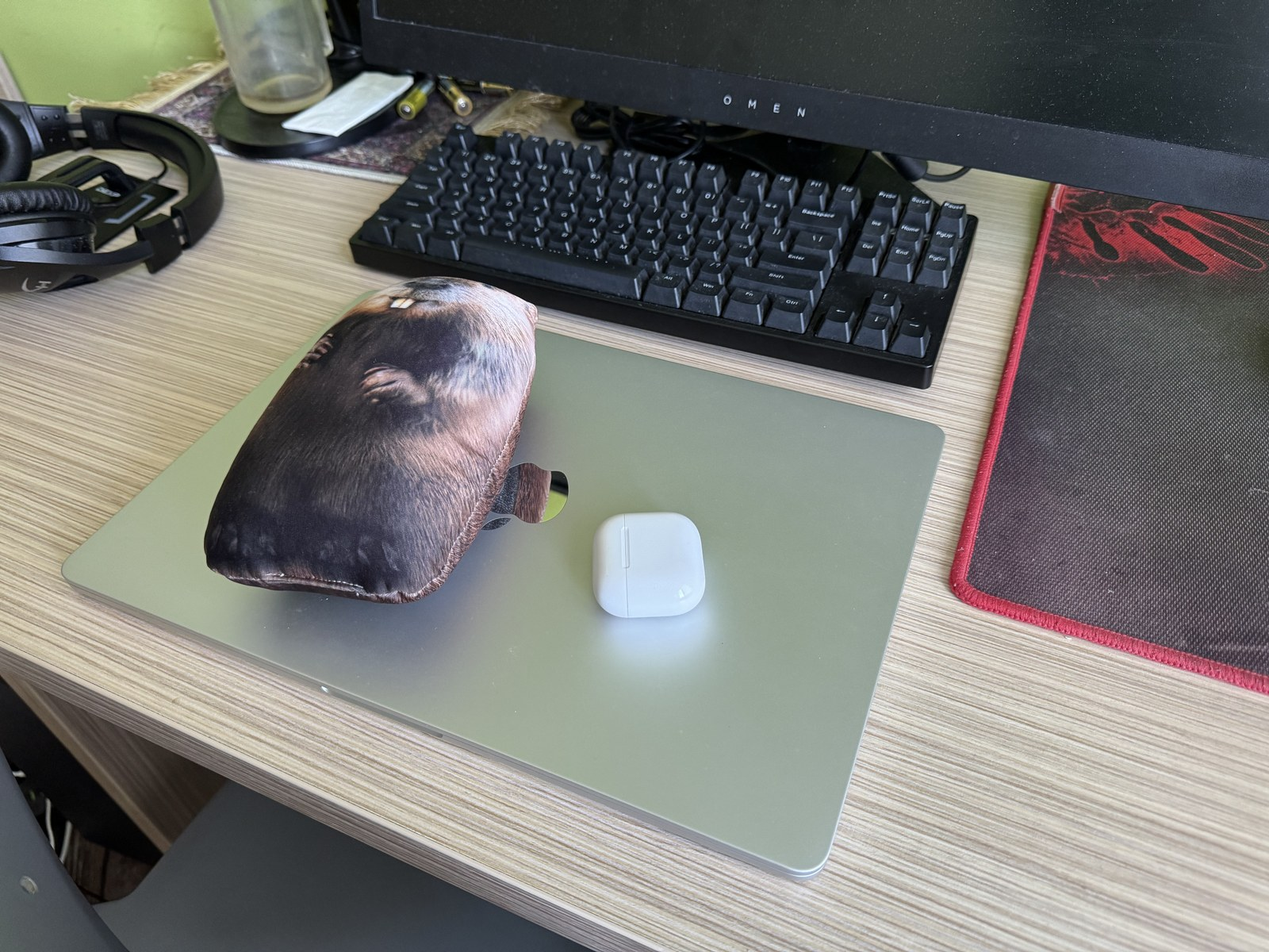laptop: (62, 288, 946, 880)
